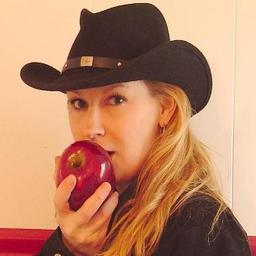apple: (59, 141, 116, 209)
